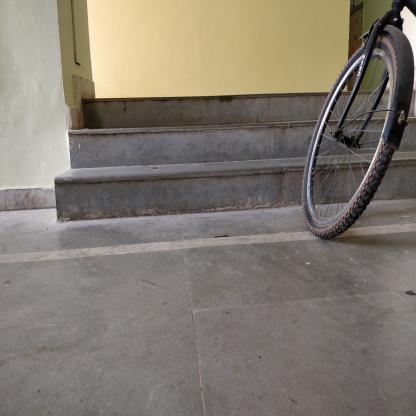stairs: (85, 90, 295, 227)
